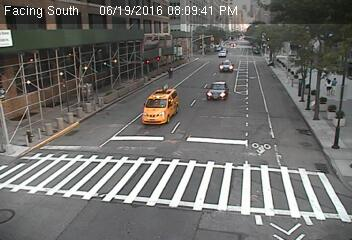neg: (211, 78, 227, 100), (19, 127, 35, 149), (78, 82, 91, 100), (220, 56, 232, 72), (197, 43, 206, 55)
pos: (328, 76, 342, 95), (322, 78, 335, 95)
